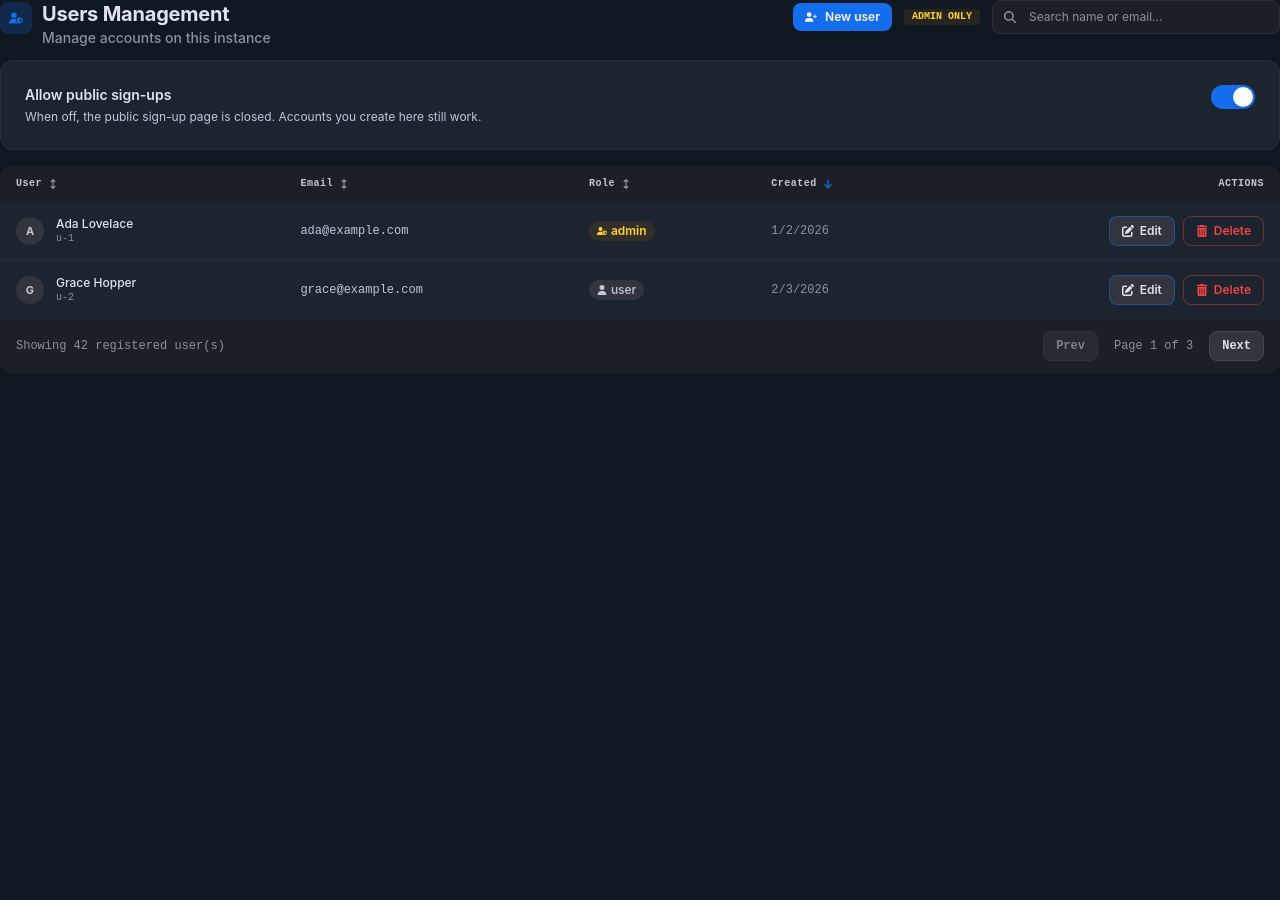
UsersSection delete actions › requires typing DELETE before the confirm button enables
Expected: the text "Grace Hopper" is shown, [56,275,136,291]
Click the button with aria-label "Delete Grace Hopper". click: {"x": 1223, "y": 290}
box: [1183,275,1264,305]
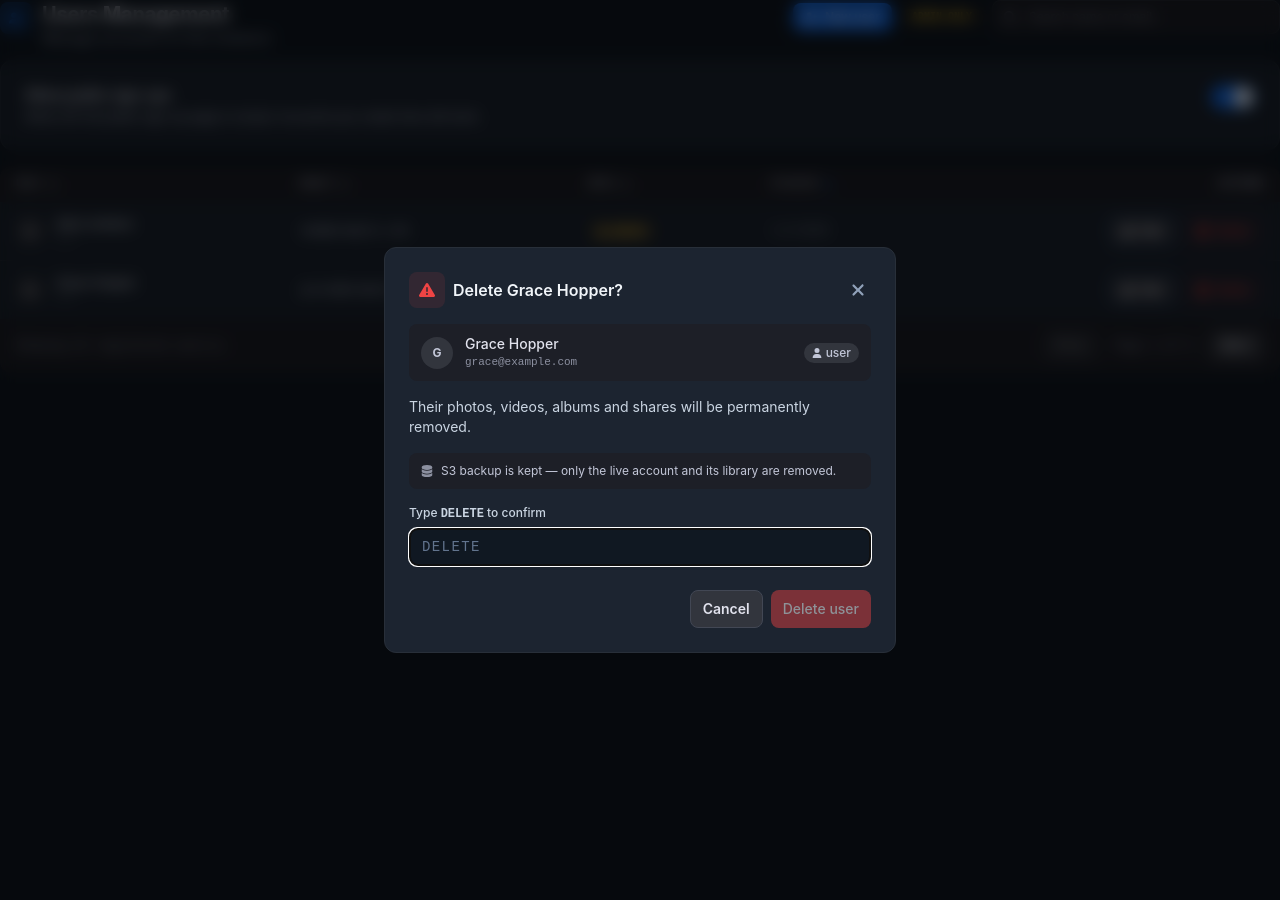
Expected: the dialog named "Delete user confirmation" is shown
Expected: the button "Delete user" is disabled, [771,590,871,628]
Type "DEL" into the field labelled "Type DELETE to confirm". click: {"x": 640, "y": 547}
box: [409,528,871,566]
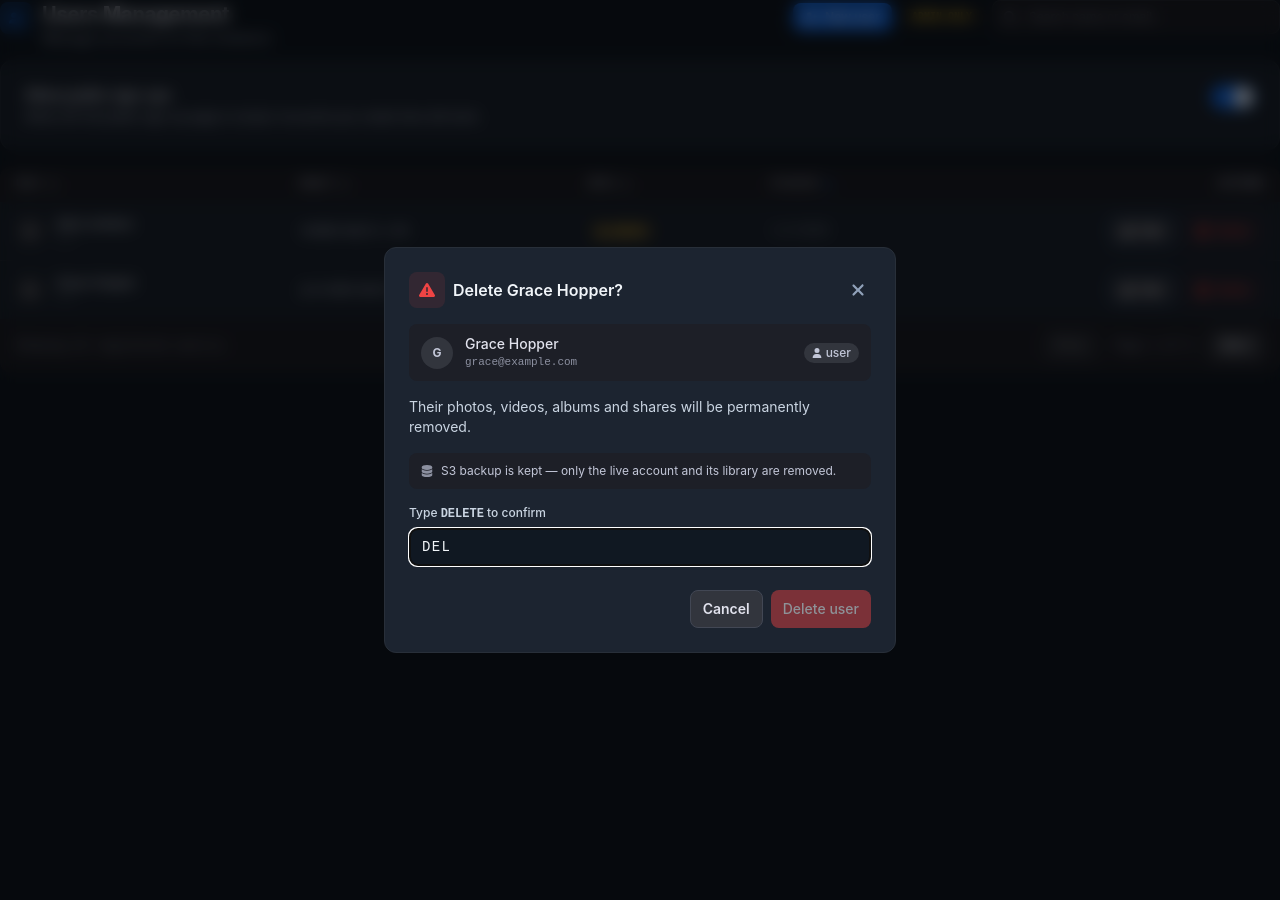
Expected: the button "Delete user" is disabled, [771,590,871,628]
Replace the text in the field labelled "Type DELETE to confirm" with "DELETE". click: {"x": 640, "y": 547}
box: [409,528,871,566]
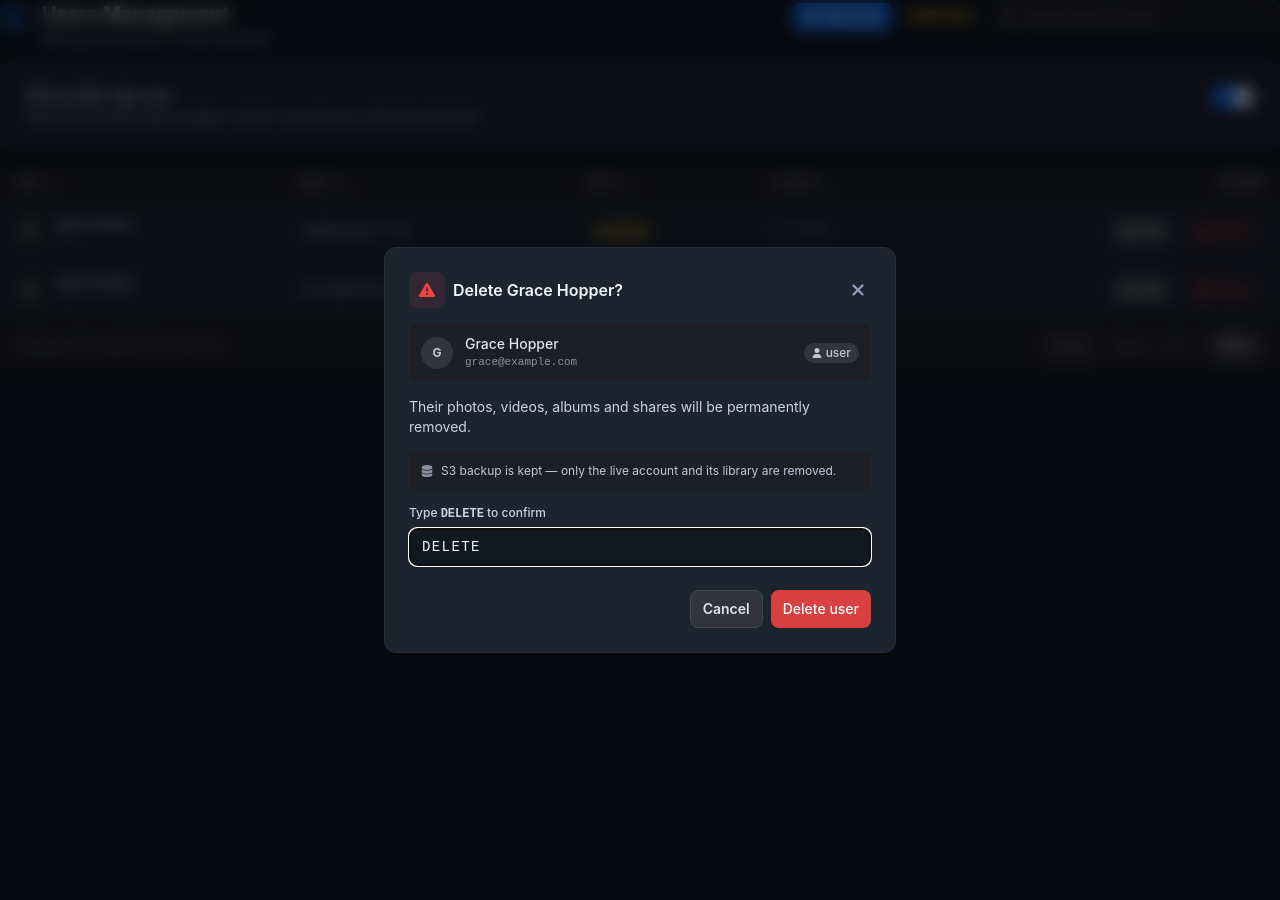
Expected: the button "Delete user" is enabled, [771,590,871,628]
